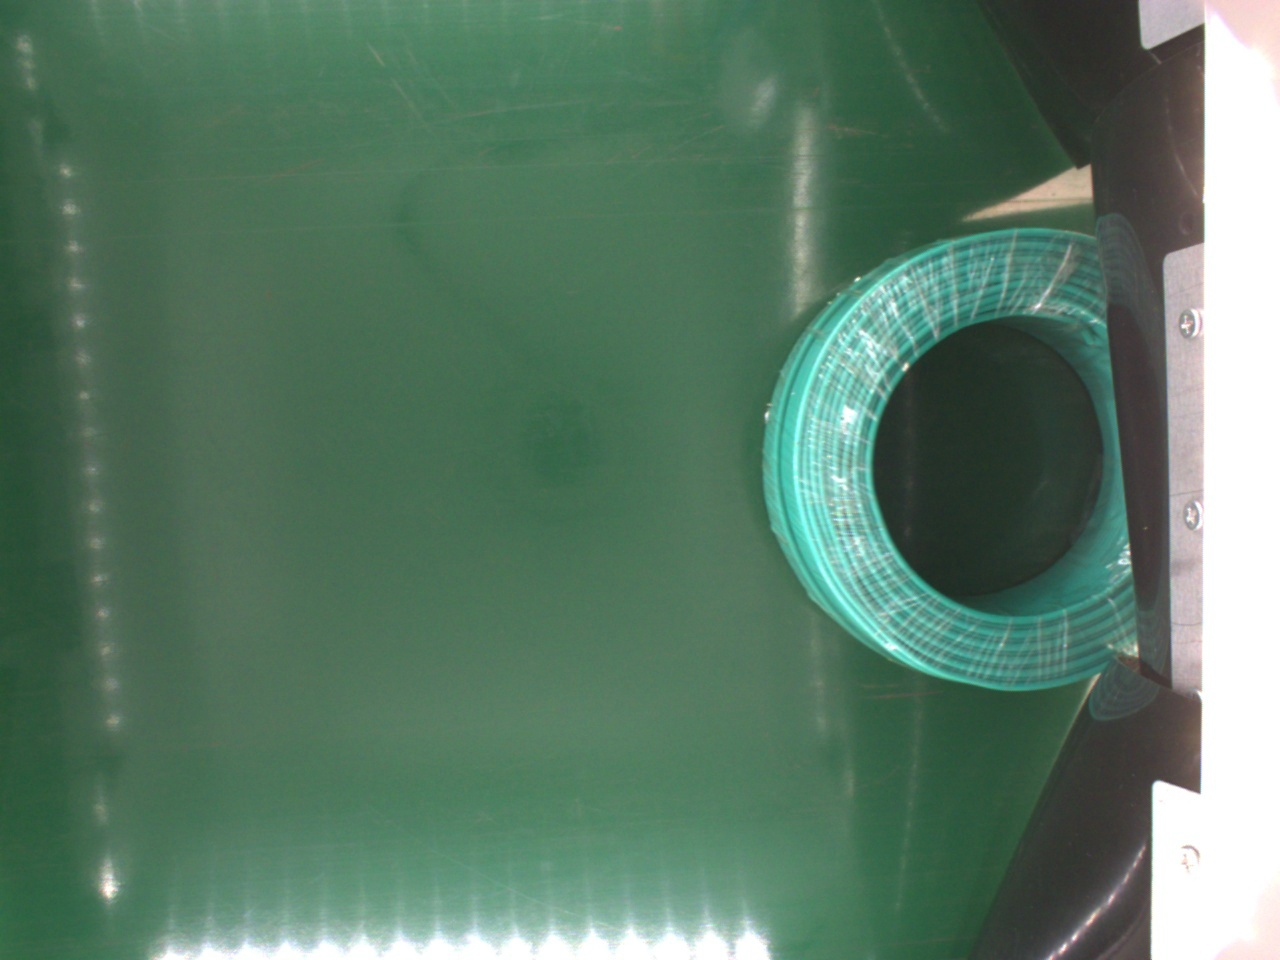green: (761, 222, 1146, 697)
